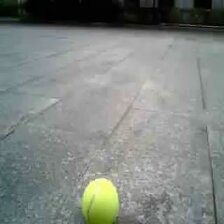tennis: (83, 178, 120, 224)
